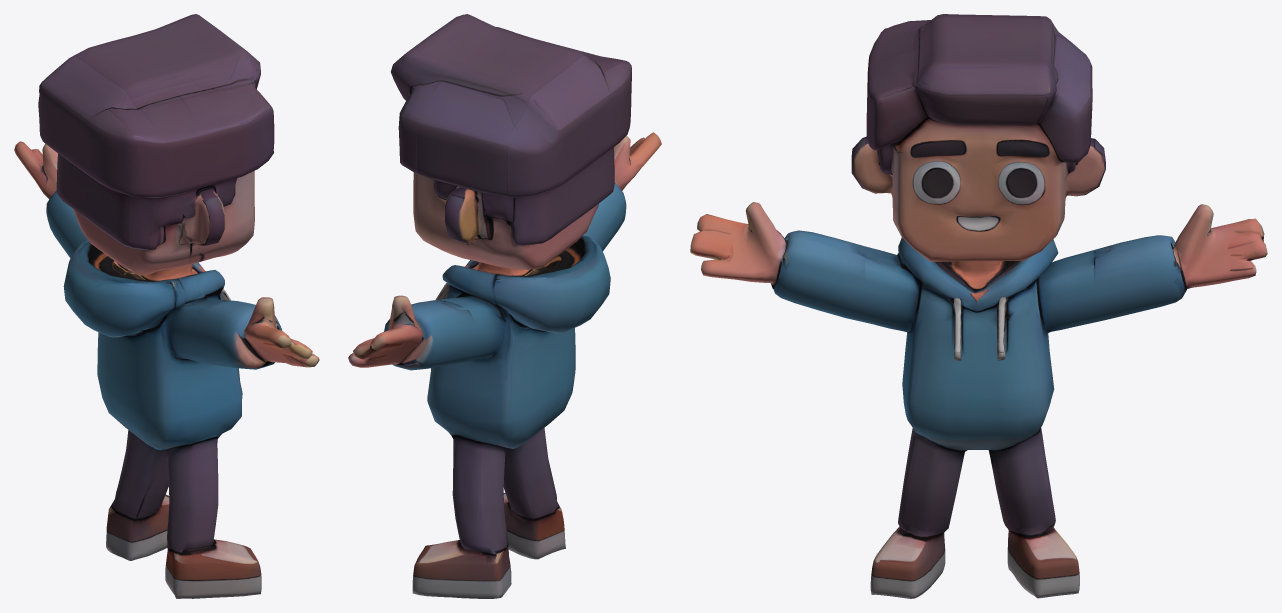
File: SM_Chr_ComputeCitizen_01.glb
3 renders of one model, left to right at view 1: azimuth 30°, elevation 25°; view 2: azimuth 150°, elevation 25°; view 3: azimuth 270°, elevation 25°, orthographic. The views are drawn at different scales.
Visible parts, largest first — view 1: tripo_node_bcbfc579; view 2: tripo_node_bcbfc579; view 3: tripo_node_bcbfc579.
Part boxes in pixels (left/top/right/bottom): tripo_node_bcbfc579: left=14, top=14, right=319, bottom=598; tripo_node_bcbfc579: left=348, top=14, right=661, bottom=598; tripo_node_bcbfc579: left=690, top=14, right=1267, bottom=598.
Bounding box in the file's own units: 35.17 × 99.87 × 96.94.
Materials: 1 (1 with a texture image).
